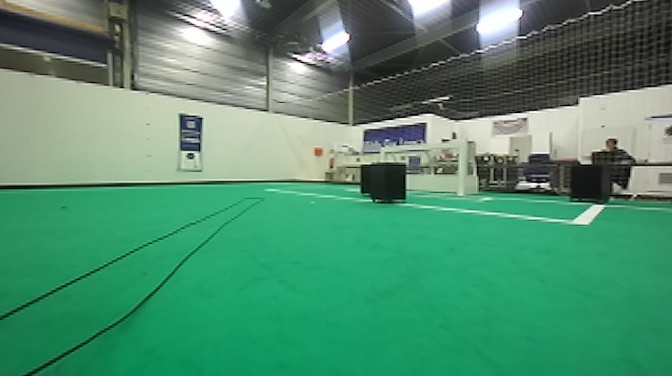goalpost: (451, 138, 468, 199), (378, 145, 389, 163)
